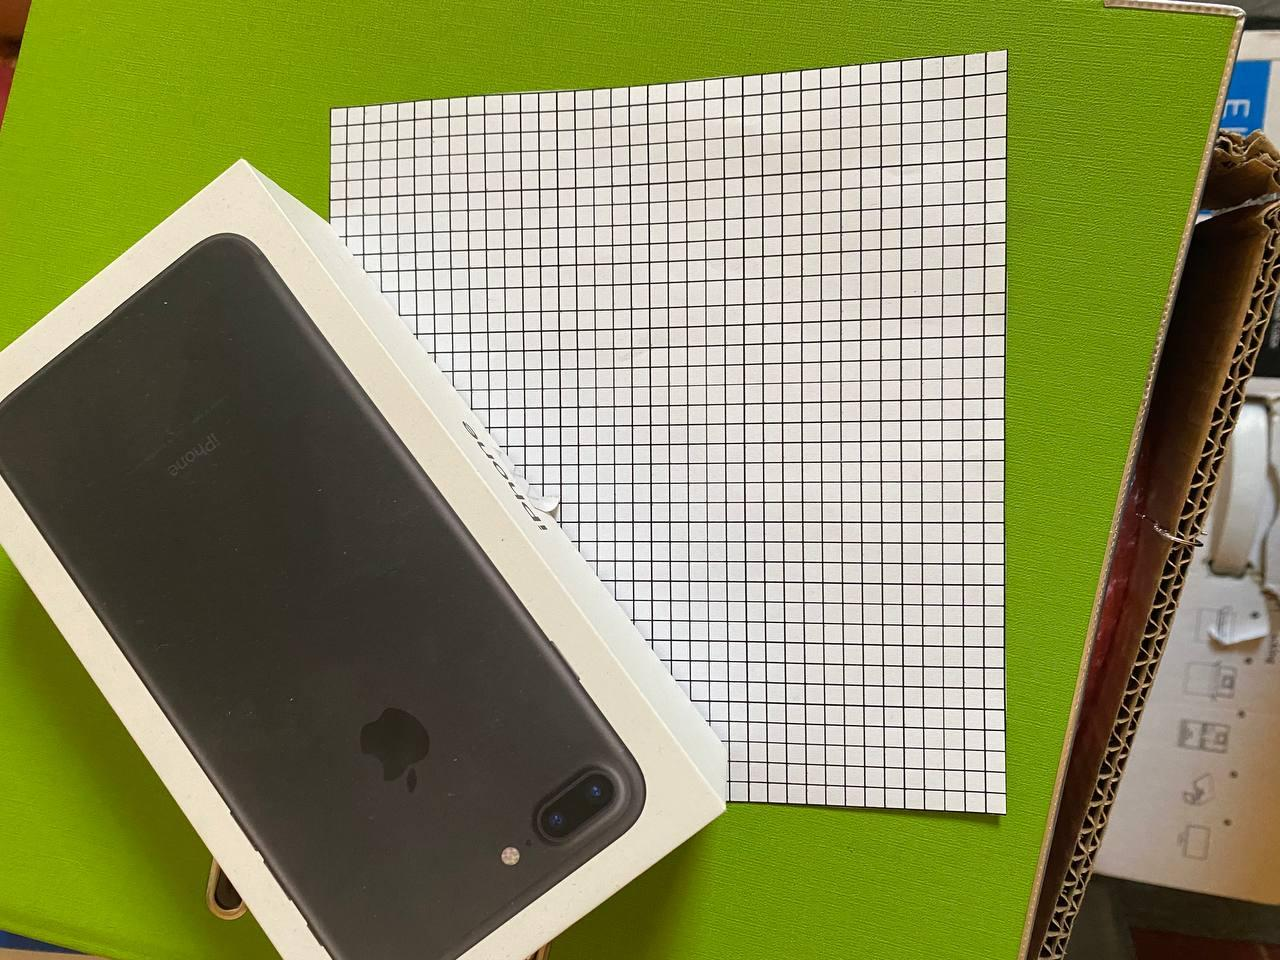grid: (319, 45, 1015, 829)
